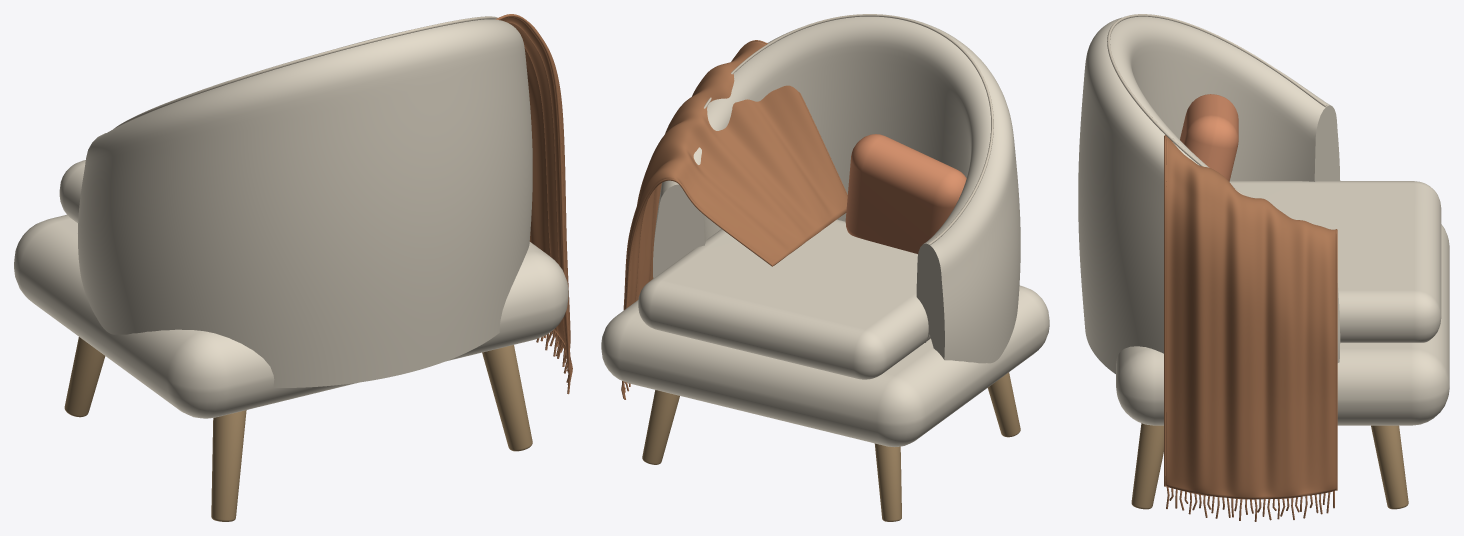
File: reading-chair.glb
3 renders of one model, left to right at view 1: azimuth 30°, elevation 25°; view 2: azimuth 150°, elevation 25°; view 3: azimuth 270°, elevation 25°, orthographic. The views are drawn at different scales.
Parts seen in each view (by area): view 1: chair_linen, throw_wool, chair_oak, chair_seam; view 2: chair_linen, throw_wool, chair_accent, chair_oak, chair_seam; view 3: chair_linen, throw_wool, chair_oak, chair_accent, chair_seam.
Part boxes in pixels (bbox=[...]): chair_linen: bbox=[14, 19, 568, 418]; throw_wool: bbox=[496, 14, 572, 394]; chair_oak: bbox=[64, 337, 532, 521]; chair_seam: bbox=[114, 16, 497, 128]; chair_linen: bbox=[601, 16, 1049, 447]; throw_wool: bbox=[621, 40, 847, 399]; chair_accent: bbox=[845, 134, 966, 253]; chair_oak: bbox=[642, 372, 1020, 521]; chair_seam: bbox=[704, 14, 993, 244]; chair_linen: bbox=[1078, 16, 1449, 425]; throw_wool: bbox=[1164, 135, 1337, 521]; chair_oak: bbox=[1131, 423, 1408, 509]; chair_accent: bbox=[1180, 94, 1238, 181]; chair_seam: bbox=[1107, 14, 1326, 195].
Bounding box in the file's own units: 2.09 × 2.09 × 1.74.
